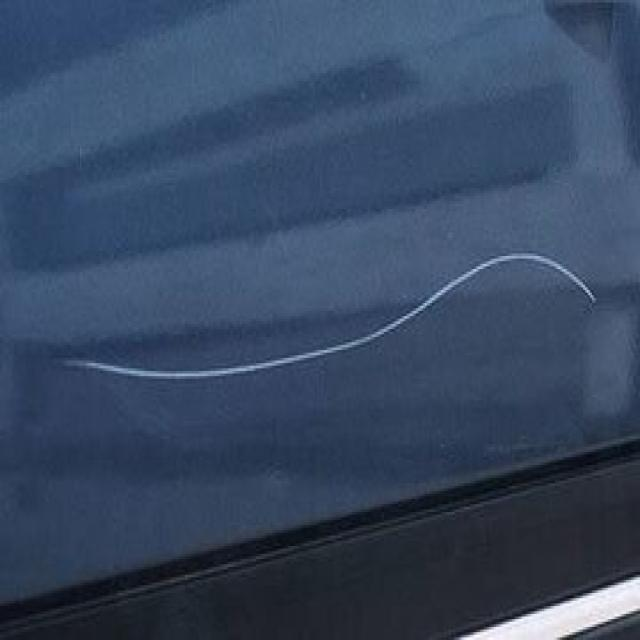paint-trace: (42, 244, 608, 383)
